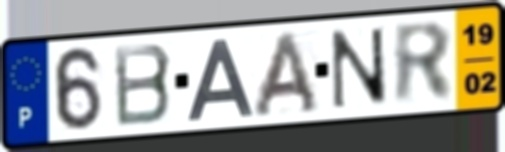6: (52, 43, 107, 136)
A: (249, 29, 322, 120), (185, 35, 257, 123)
B: (111, 41, 175, 130)
N: (328, 25, 392, 112)
R: (390, 19, 457, 108)
